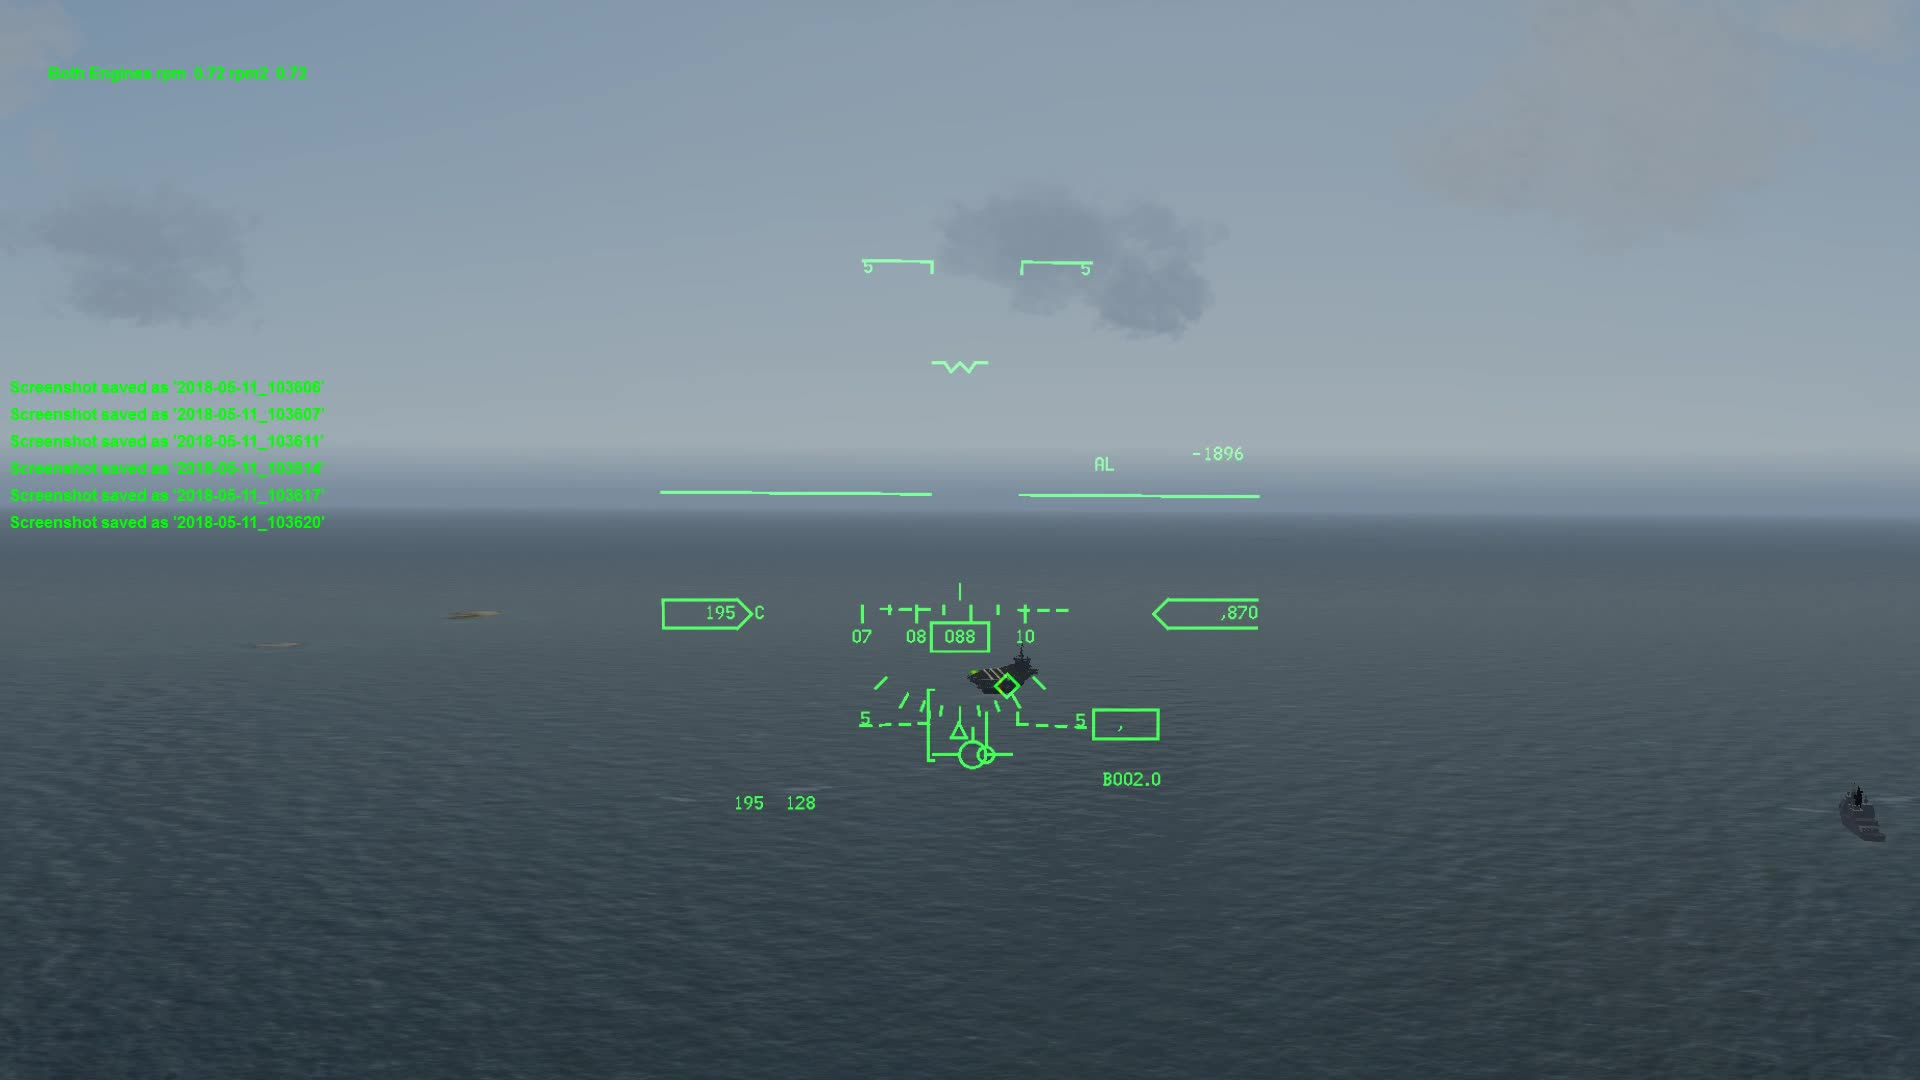speed vector: (938, 733, 1021, 766)
